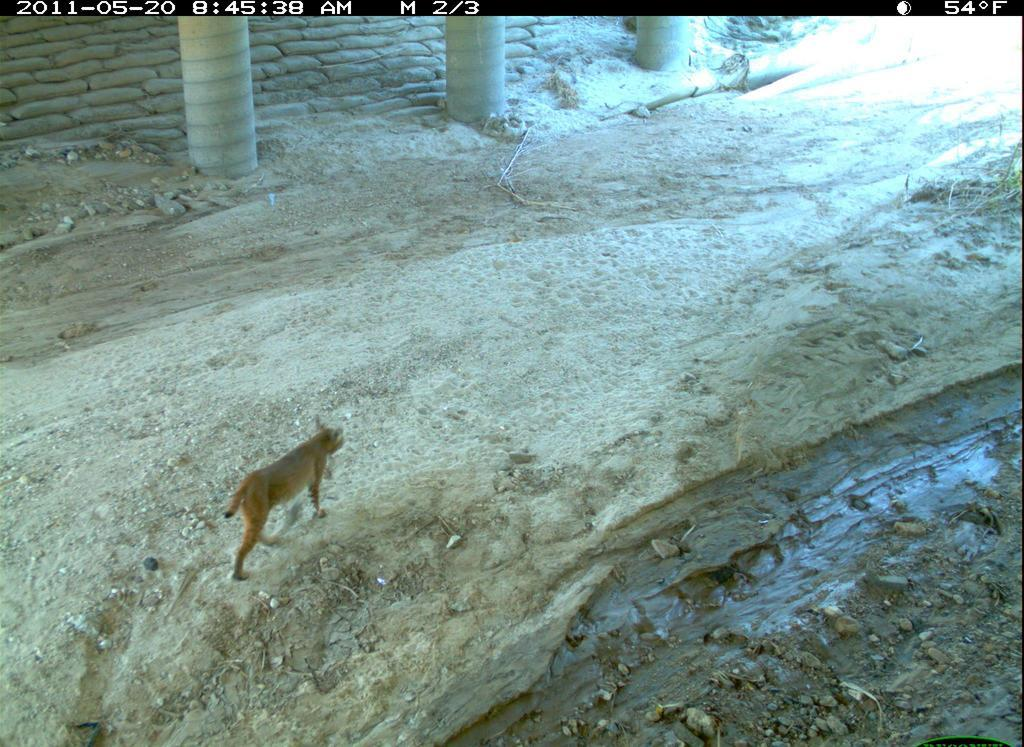bobcat: (210, 404, 361, 598)
